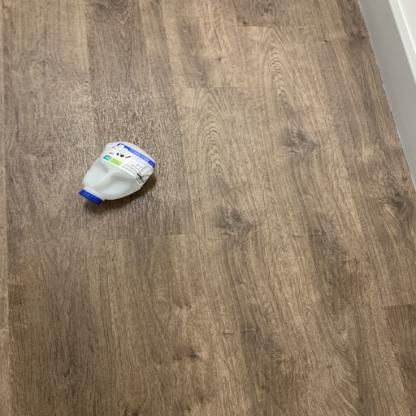trash: (75, 140, 161, 210)
